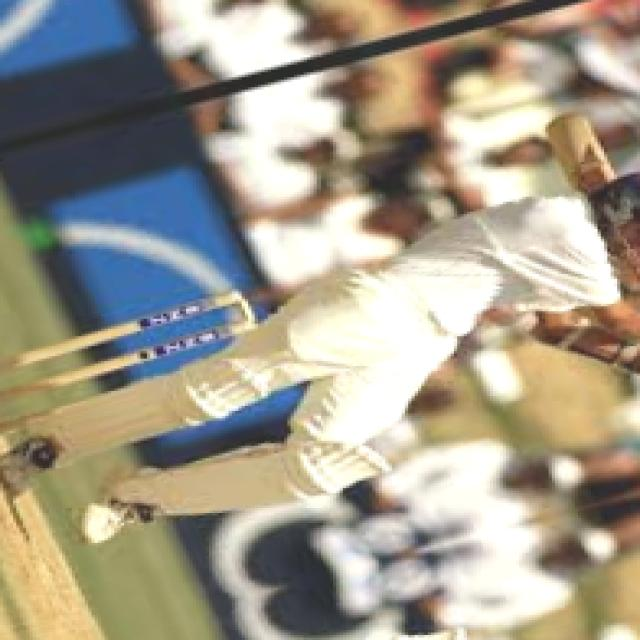toe: (536, 110, 584, 136)
